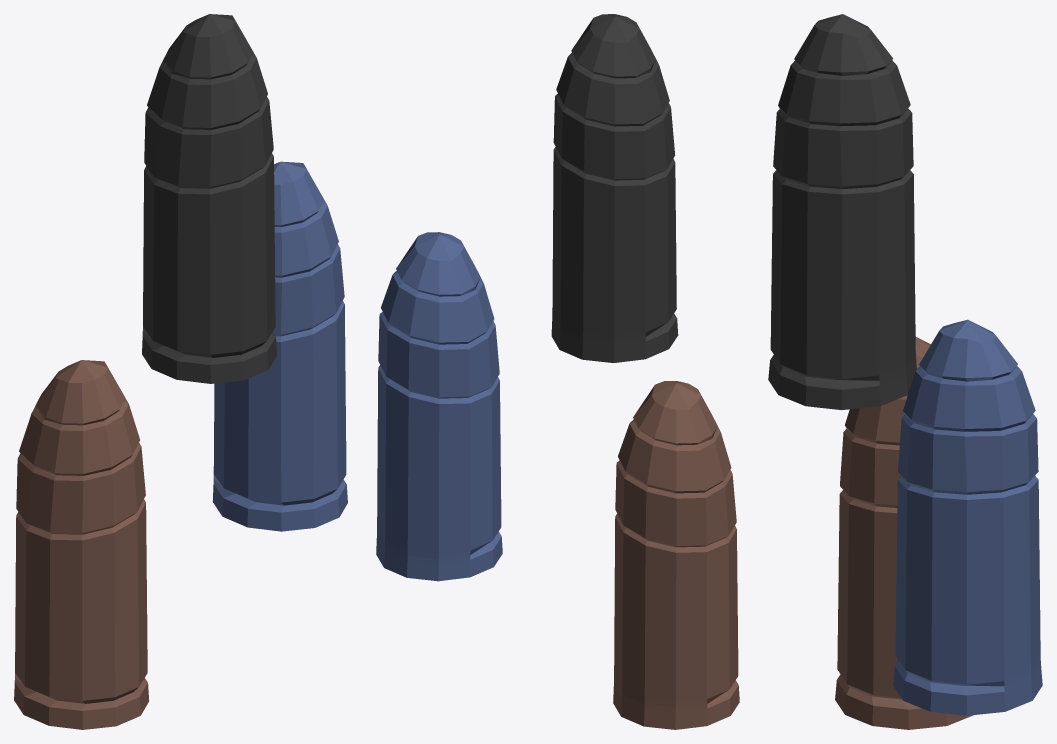
Rendered from Bullet_2.fbx.
3 views of the same model, side by side, from view 1: azimuth 30°, elevation 25°; view 2: azimuth 150°, elevation 25°; view 3: azimuth 270°, elevation 25° (orthographic). The views are drawn at different scales.
Parts seen in each view (by area): view 1: Bullet.004; view 2: Bullet.004; view 3: Bullet.004.
Part boxes in pixels (left/top/right/bottom): Bullet.004: left=14, top=14, right=347, bottom=729; Bullet.004: left=376, top=14, right=739, bottom=729; Bullet.004: left=768, top=14, right=1042, bottom=729.
Bounding box in the file's own units: 128 × 246 × 83.09.
